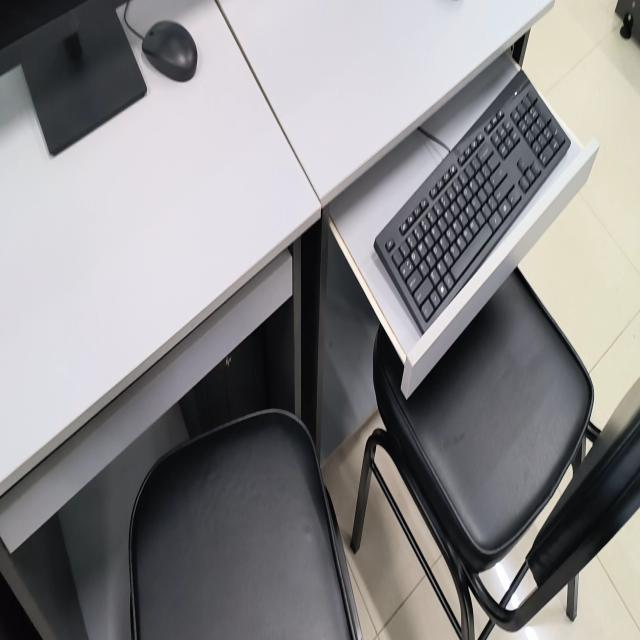Chair: (350, 272, 640, 639), (130, 409, 361, 639)
Cpu: (180, 328, 267, 437)
Keyboard: (375, 71, 570, 334)
Monitor: (0, 0, 150, 157)
Mouse: (142, 20, 197, 82)
